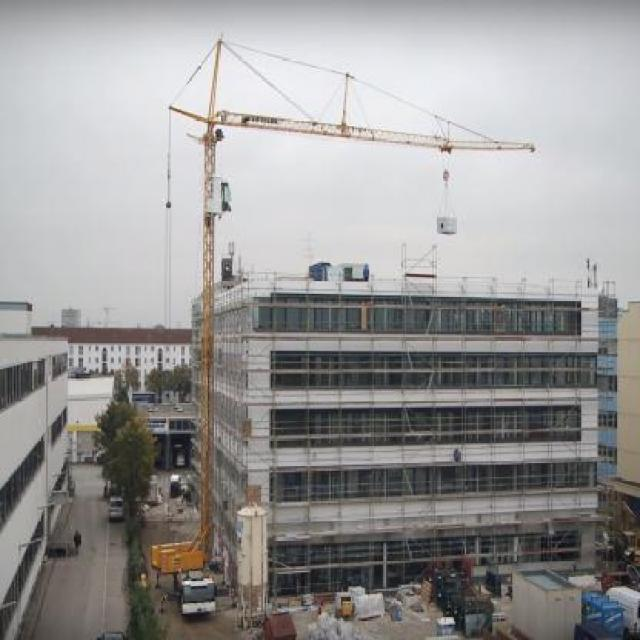Mobile Crane: (149, 34, 534, 620)
